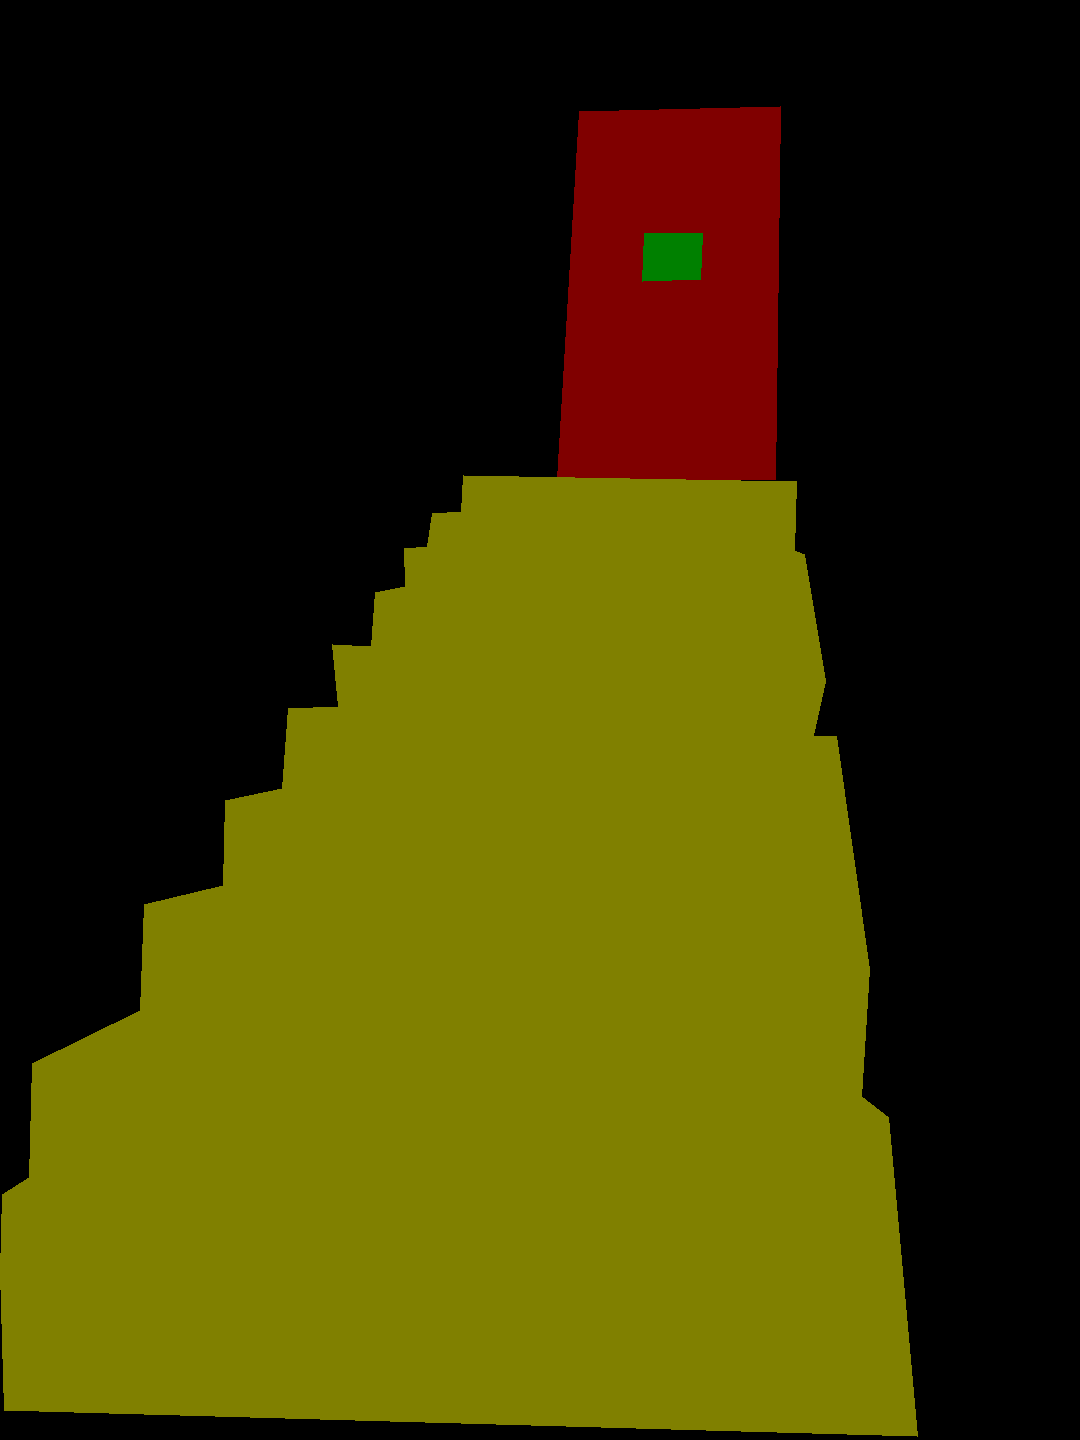door: (557, 105, 781, 478)
sign: (642, 232, 702, 281)
stair: (0, 475, 917, 1435)
